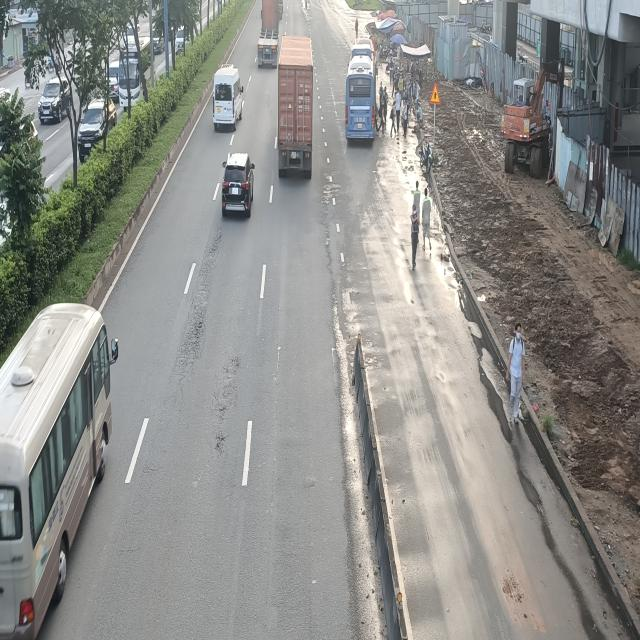car: (220, 156, 253, 220)
coach: (0, 300, 113, 640), (345, 41, 376, 145)
container: (277, 34, 314, 178), (260, 0, 284, 66)
van: (211, 68, 243, 134)
